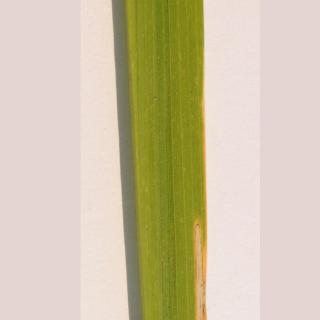Hawar-Daun: (166, 88, 216, 320)
